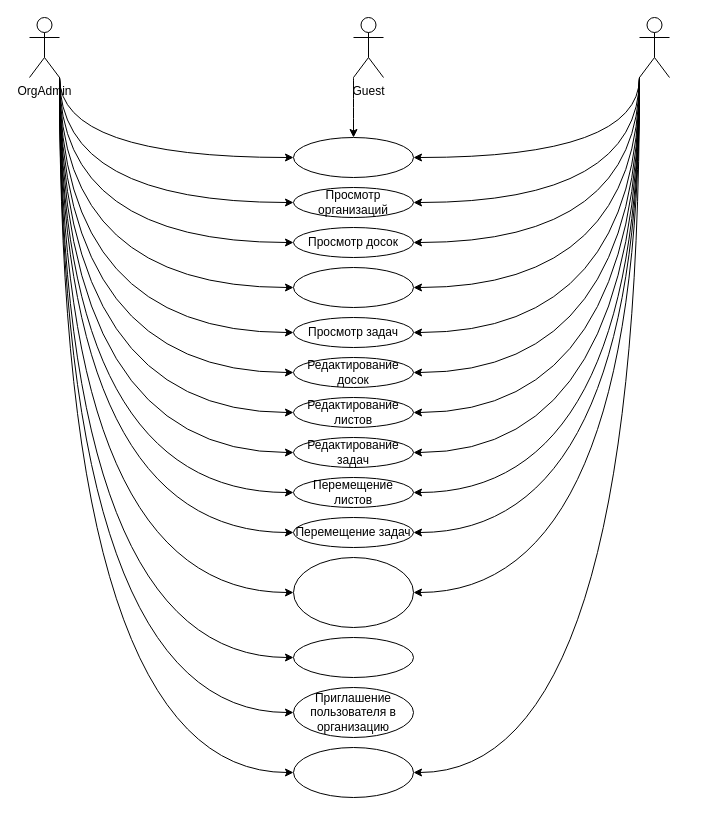
Image size: 712x815. Some labels were removed from this diagram. Here are the shapes that lost their labels. From the top down, the centre of each, then its label:
At pixel 654 47: "OrgInvitedUser".
At pixel 353 157: "Регистрация/ Авторизация".
At pixel 353 287: "Просмотр листов задач".
At pixel 353 592: "Просмотр активности по доскам и задачам".
At pixel 353 657: "Редактирование организации".
At pixel 353 772: "Создать организацию".
